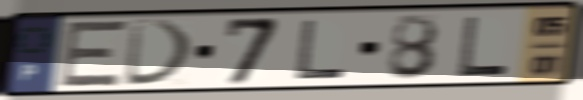7: (222, 16, 281, 87)
8: (385, 13, 440, 82)
D: (122, 18, 198, 89)
E: (55, 19, 132, 90)
L: (293, 18, 349, 82), (456, 15, 512, 78)
